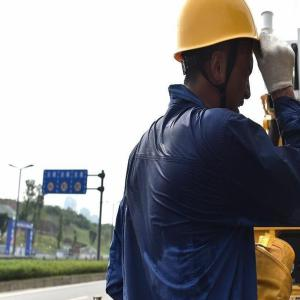yellow: (175, 3, 258, 114)
